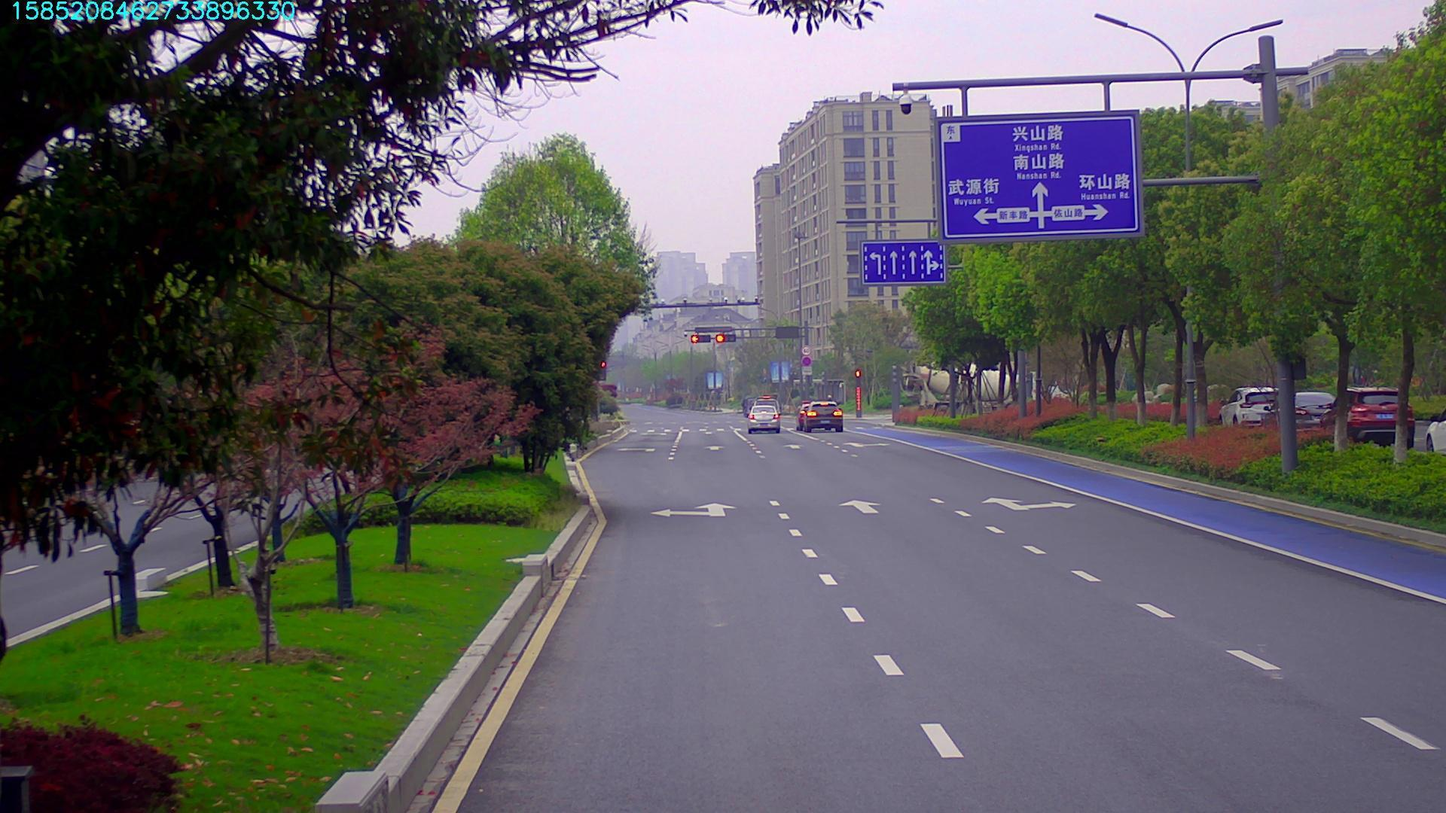red: (715, 330, 737, 344), (689, 330, 709, 340)
